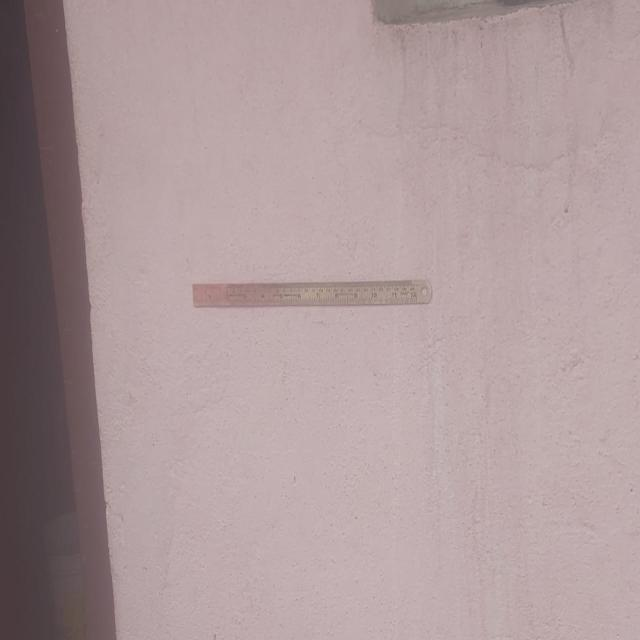scale: (191, 282, 433, 310)
